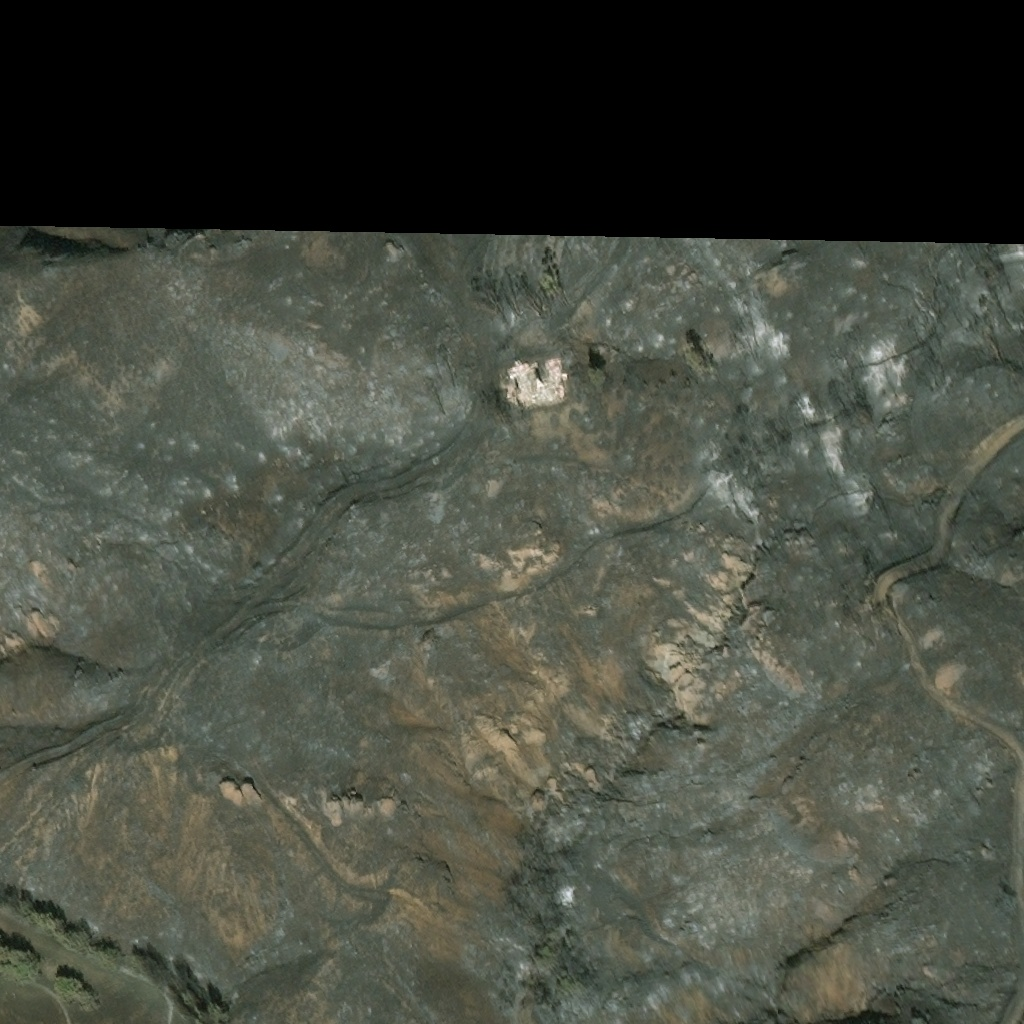3 destroyed: (507, 357, 569, 409)
